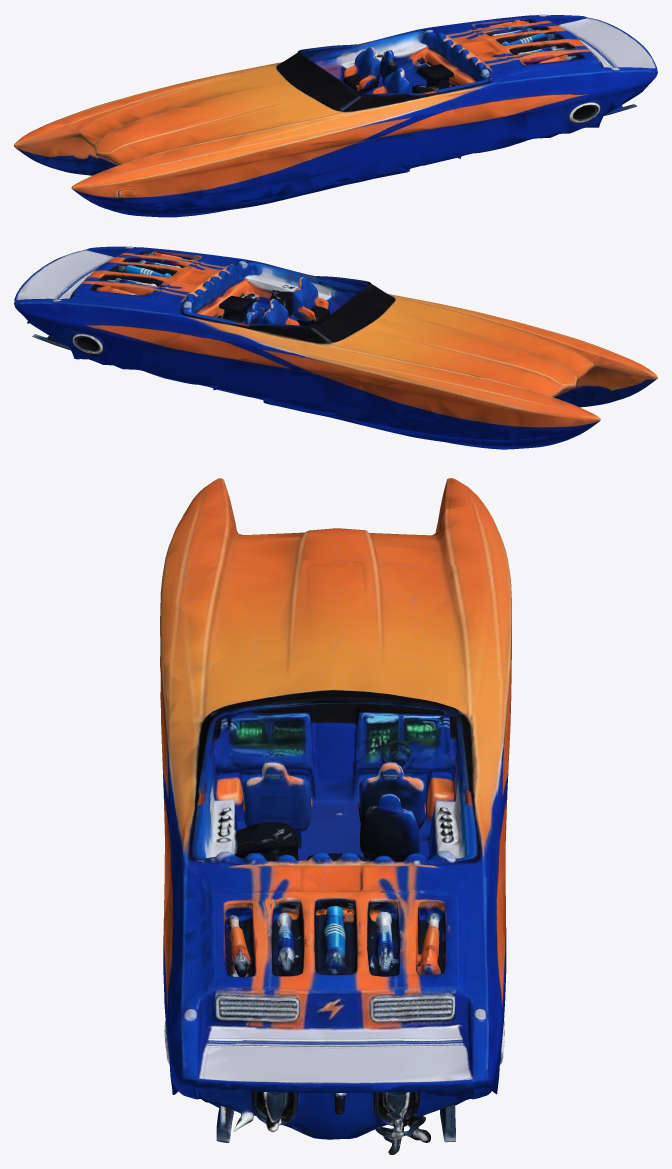
Rendered from boat.glb.
3 renders of one model, top to bottom at view 1: azimuth 30°, elevation 25°; view 2: azimuth 150°, elevation 25°; view 3: azimuth 270°, elevation 25°, orthographic. The views are drawn at different scales.
Parts seen in each view (by area): view 1: boat; view 2: boat; view 3: boat.
Part boxes in pixels (bbox=[...]): boat: bbox=[14, 14, 657, 217]; boat: bbox=[14, 246, 657, 449]; boat: bbox=[160, 478, 511, 1154].
Bounding box in the file's own units: 1.9 × 0.2898 × 0.4895.
Materials: 1 (1 with a texture image).
